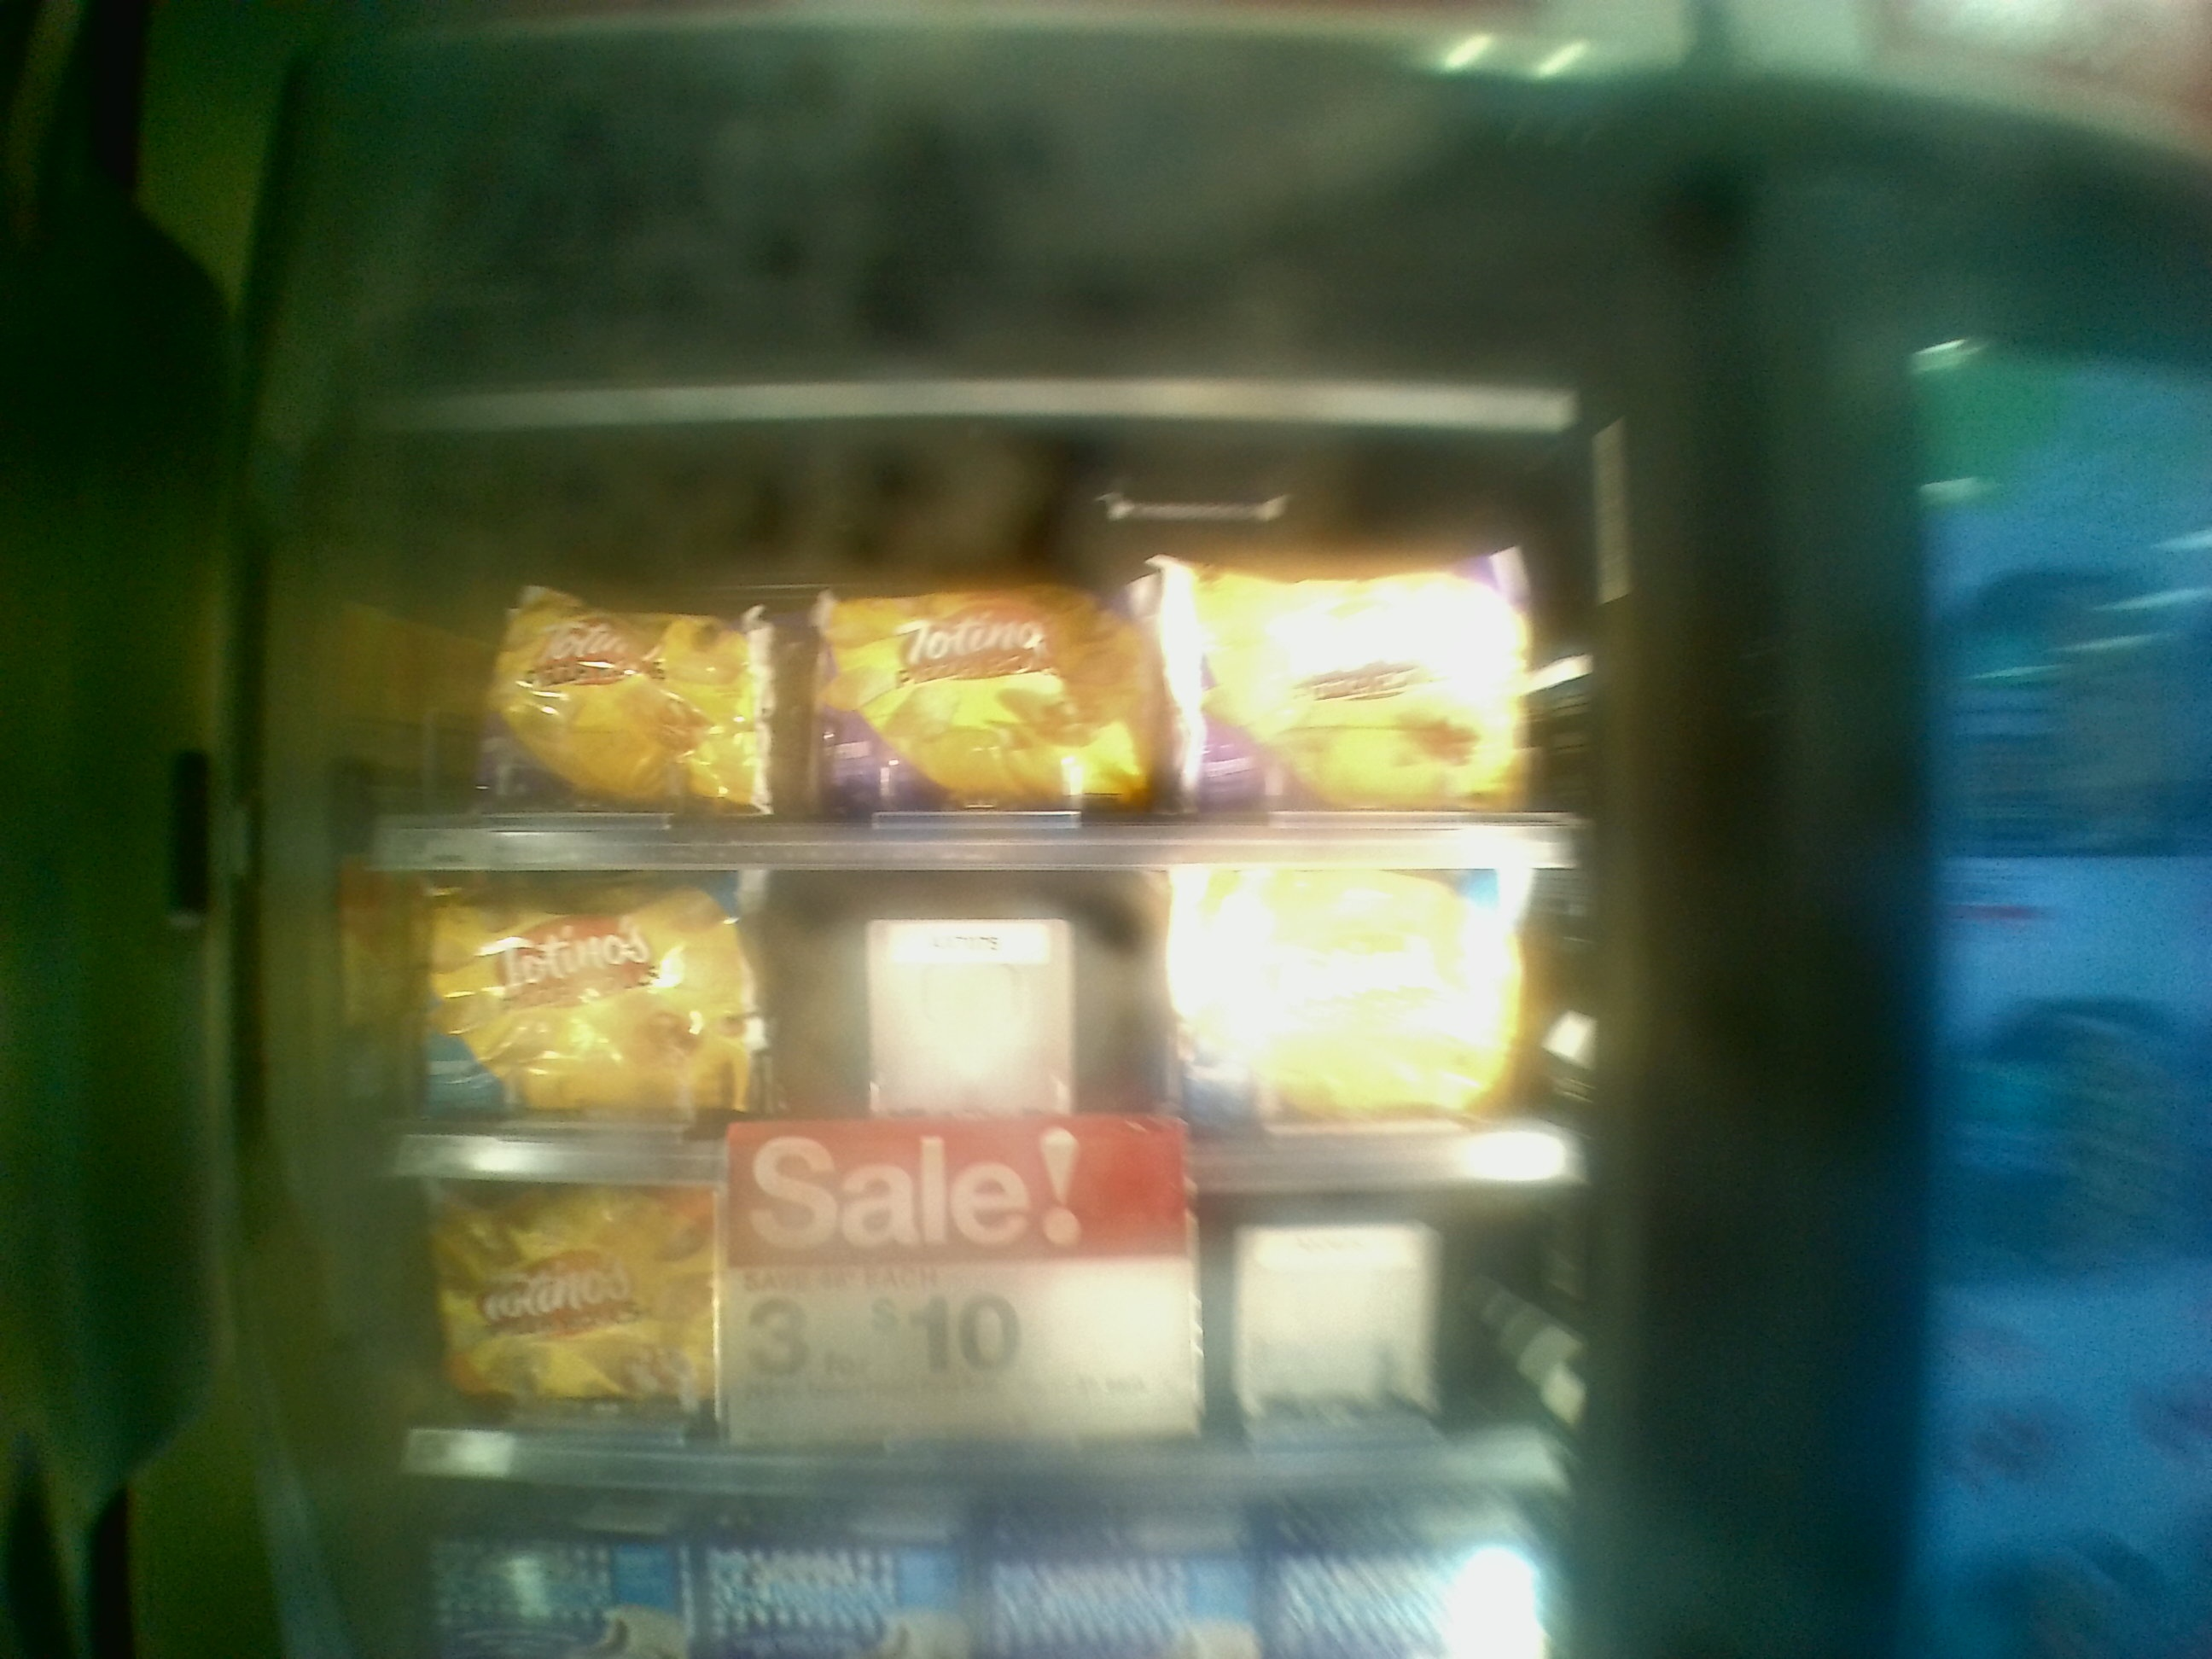shelf: (371, 408, 1566, 871), (381, 1166, 1573, 1497), (368, 863, 1575, 1178)
